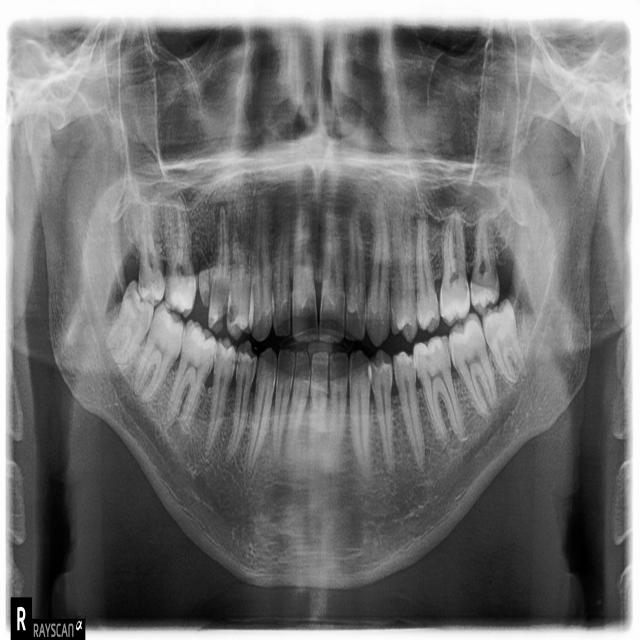mandibula: (25, 89, 616, 590)
